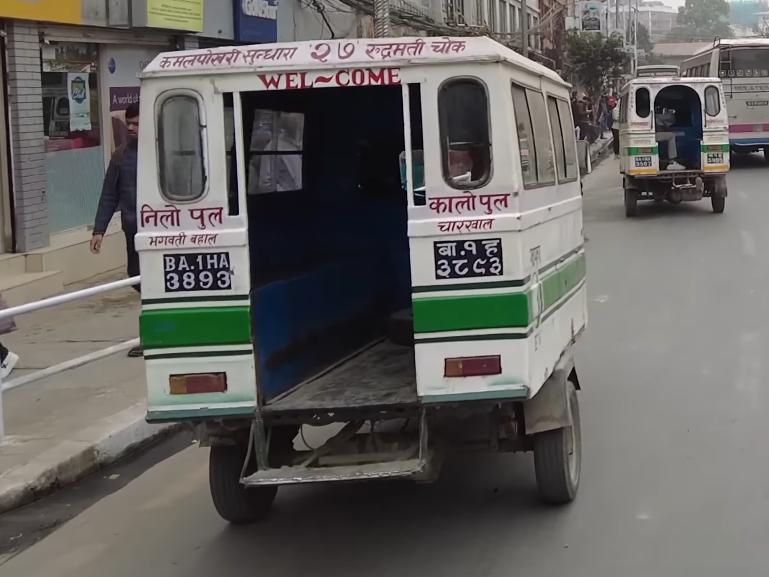bus: (676, 35, 769, 168)
tempo: (119, 32, 602, 527), (608, 73, 736, 218)
